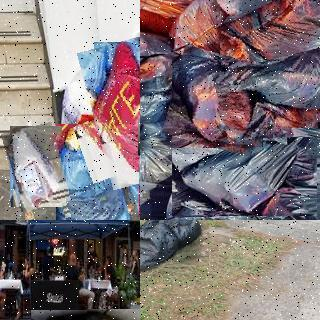Garbage: (172, 138, 317, 217), (167, 50, 269, 152), (214, 0, 320, 95), (215, 47, 320, 136), (46, 120, 136, 220), (85, 38, 140, 187), (166, 0, 286, 64), (260, 115, 320, 220), (6, 124, 67, 210), (140, 220, 212, 275), (140, 0, 269, 30)
